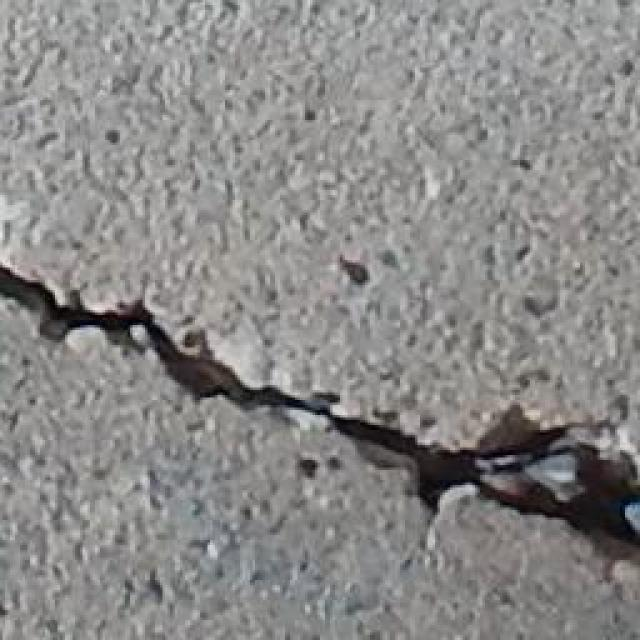concrete-crack: (0, 266, 640, 584), (1, 268, 90, 343), (13, 269, 70, 304), (112, 343, 122, 347)
